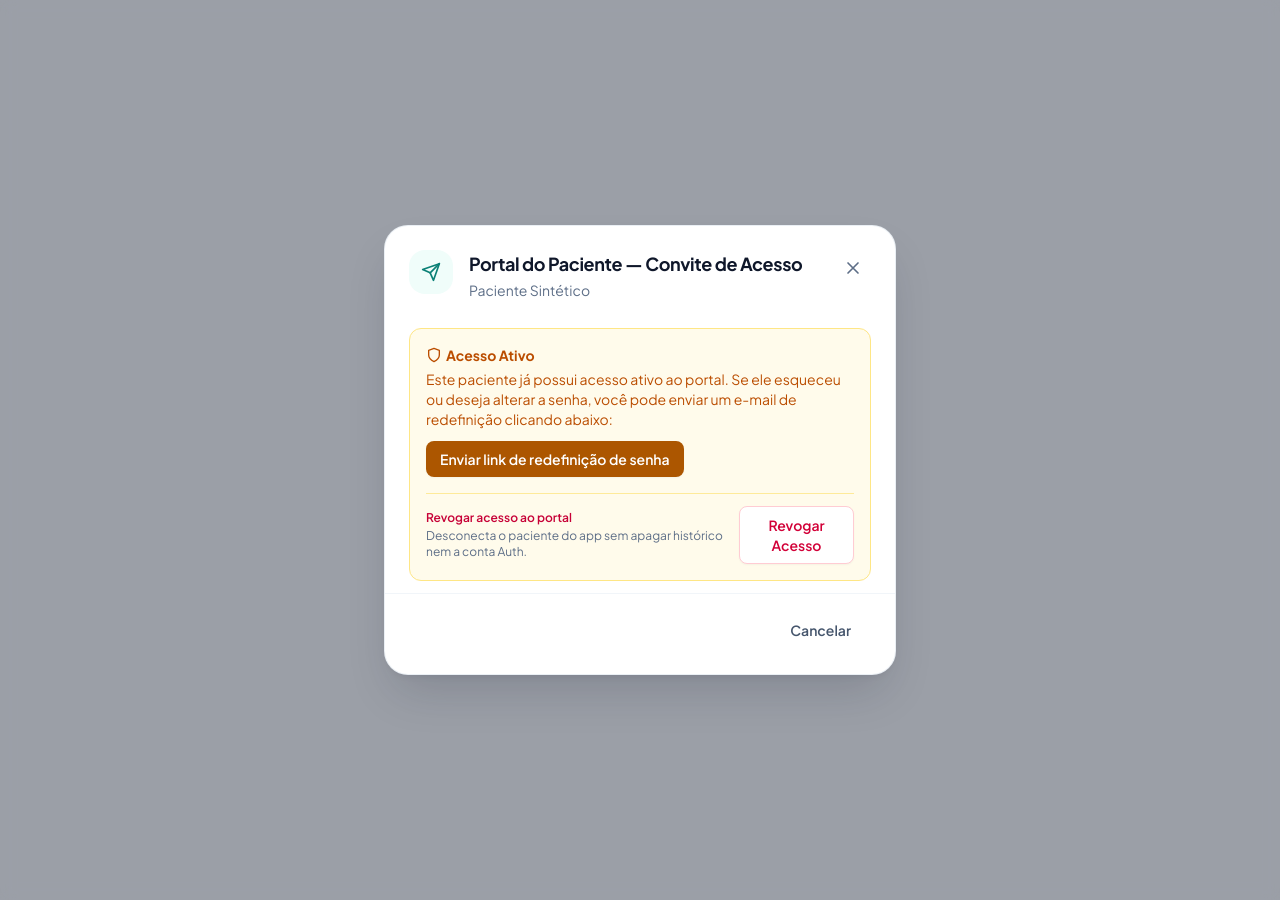
Test: PatientAccessModal — revocation outcomes (R04) › effective revocation: success only
Click the button "Revogar Acesso": (796, 535) [739,506,854,564]
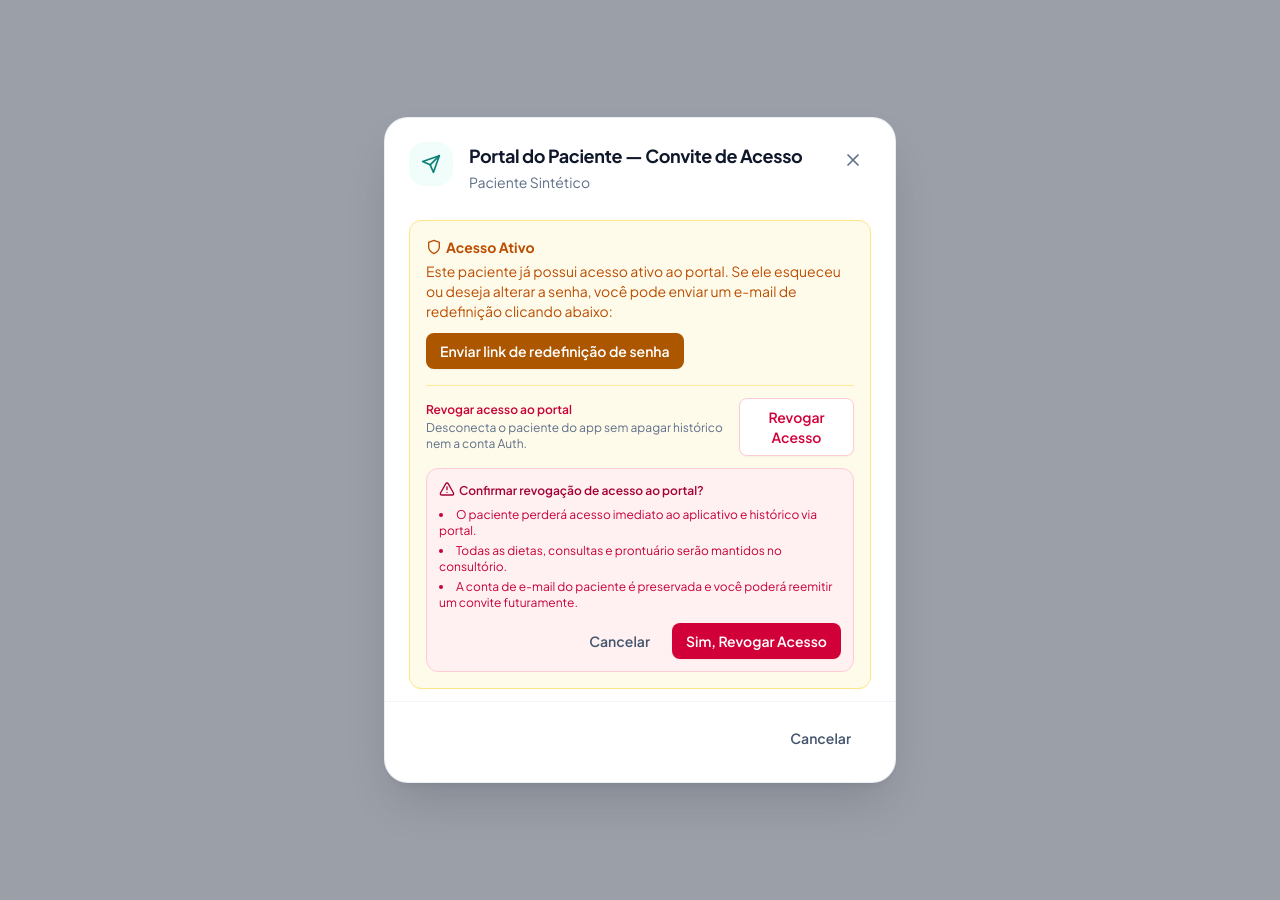
Click the button "Sim, Revogar Acesso": (756, 641) [672,623,841,659]
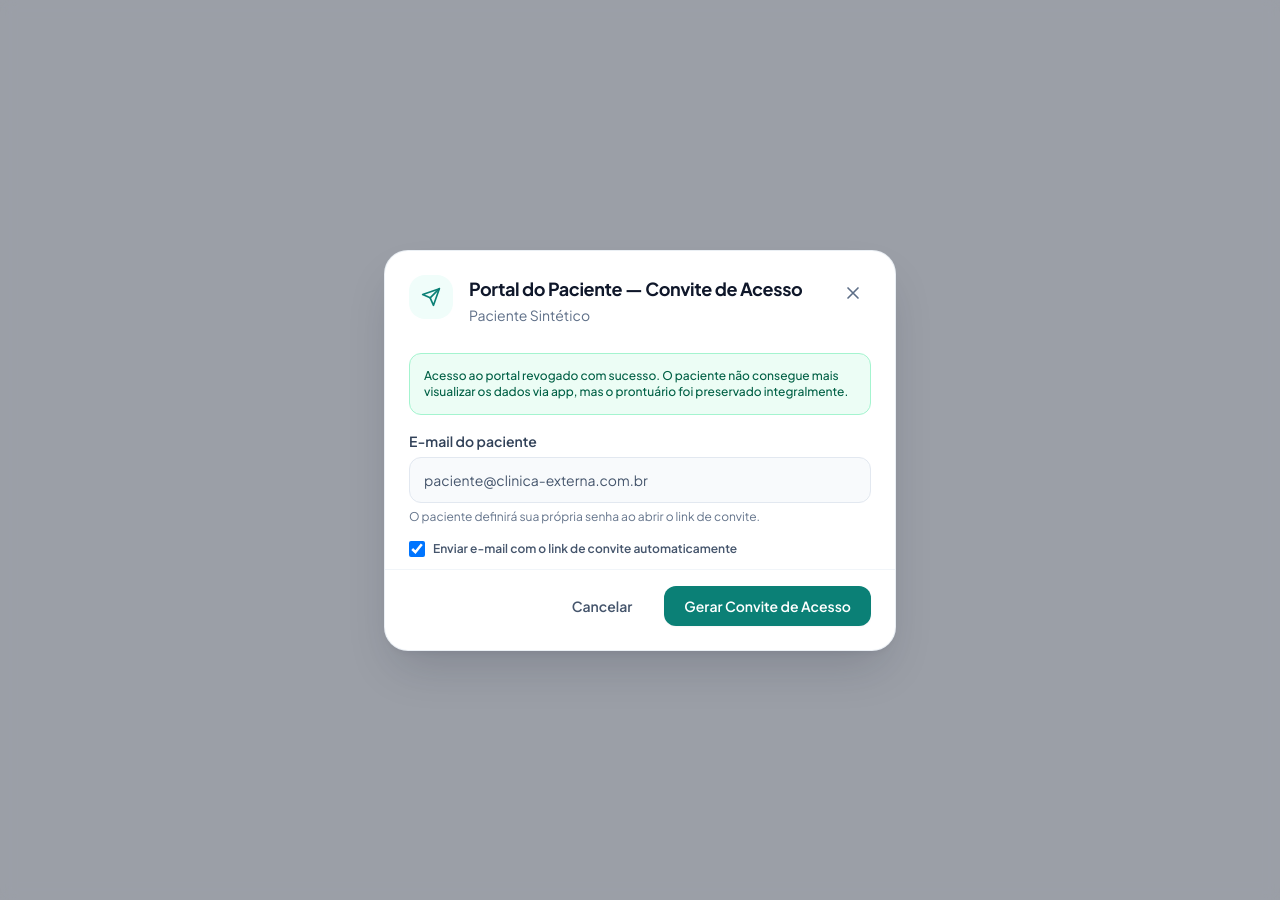
Expected: the text "Acesso ao portal revogado com sucesso" is shown, [424,368,848,398]
